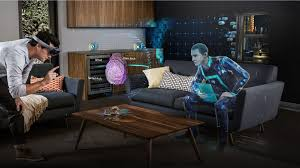hololens: (31, 34, 62, 58)
